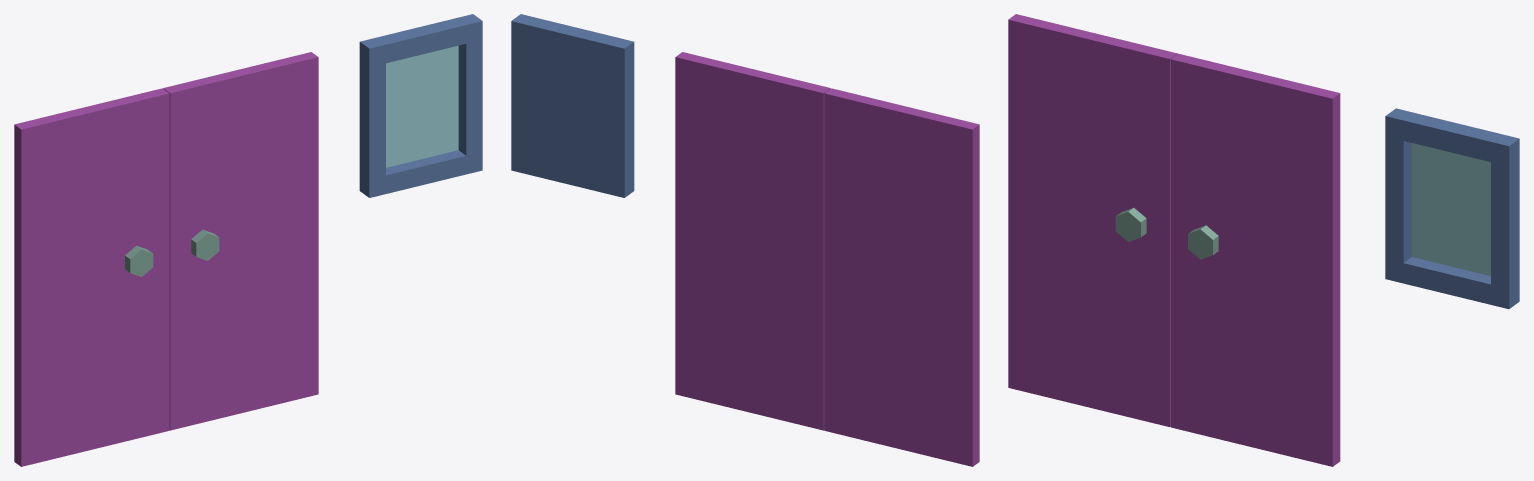
File: facade_4.fbx
The picture shows the model from 3 angles, left to right: view 1: azimuth 30°, elevation 25°; view 2: azimuth 150°, elevation 25°; view 3: azimuth 330°, elevation 25°; orthographic projection. The views are drawn at different scales.
Parts seen in each view (by area): view 1: door, door1, window_front1, door_knob (×2); view 2: door, door1, window_front1; view 3: door1, door, window_front1, door_knob (×2).
Boxes of the visible parts, left/top/right/bottom form: door: left=14, top=88, right=169, bottom=466; door1: left=163, top=52, right=318, bottom=430; window_front1: left=359, top=14, right=482, bottom=197; door_knob (×2): left=125, top=229, right=219, bottom=276; door: left=824, top=88, right=979, bottom=466; door1: left=675, top=52, right=830, bottom=430; window_front1: left=511, top=14, right=634, bottom=197; door1: left=1171, top=53, right=1340, bottom=466; door: left=1008, top=14, right=1177, bottom=427; window_front1: left=1385, top=108, right=1519, bottom=309; door_knob (×2): left=1115, top=207, right=1218, bottom=259.
Size of the model in its own units: 73.95 by 51.8 by 3.78.
